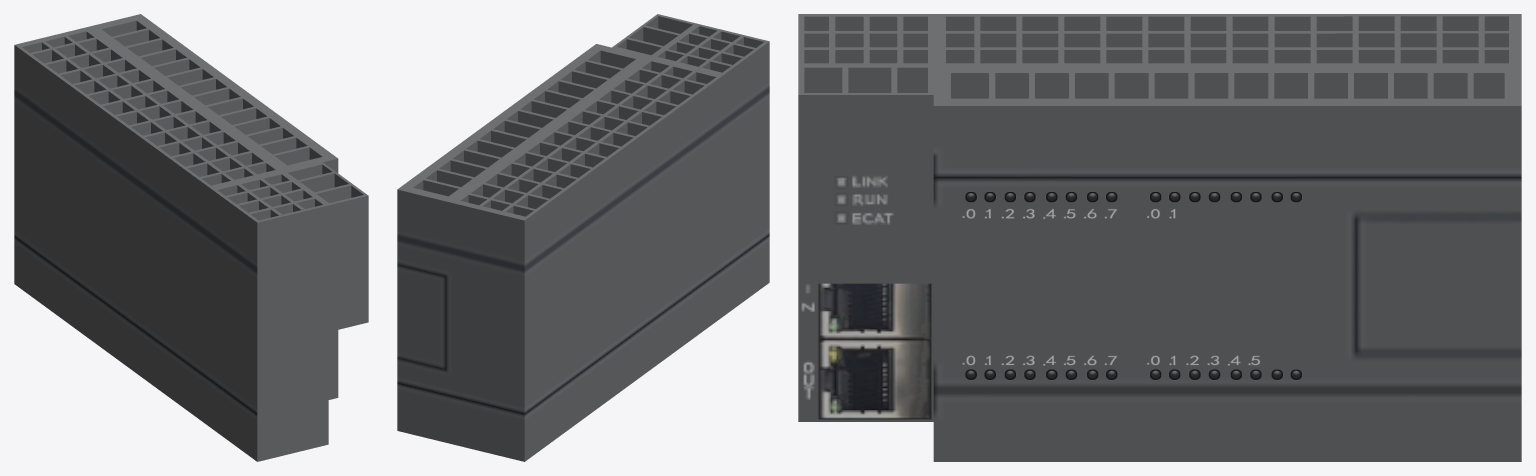
The picture shows the model from 3 angles, left to right: view 1: azimuth 30°, elevation 25°; view 2: azimuth 150°, elevation 25°; view 3: azimuth 270°, elevation 25°; orthographic projection. The views are drawn at different scales.
Parts seen in each view (by area): view 1: Io; view 2: Io; view 3: Io.
Part boxes in pixels (x1=…): Io: x1=14, y1=14, x2=368, y2=461; Io: x1=397, y1=14, x2=769, y2=461; Io: x1=798, y1=14, x2=1521, y2=461.
Bounding box in the file's own units: 0.0687 × 0.1217 × 0.2241.
Materials: 2 (2 with a texture image).
